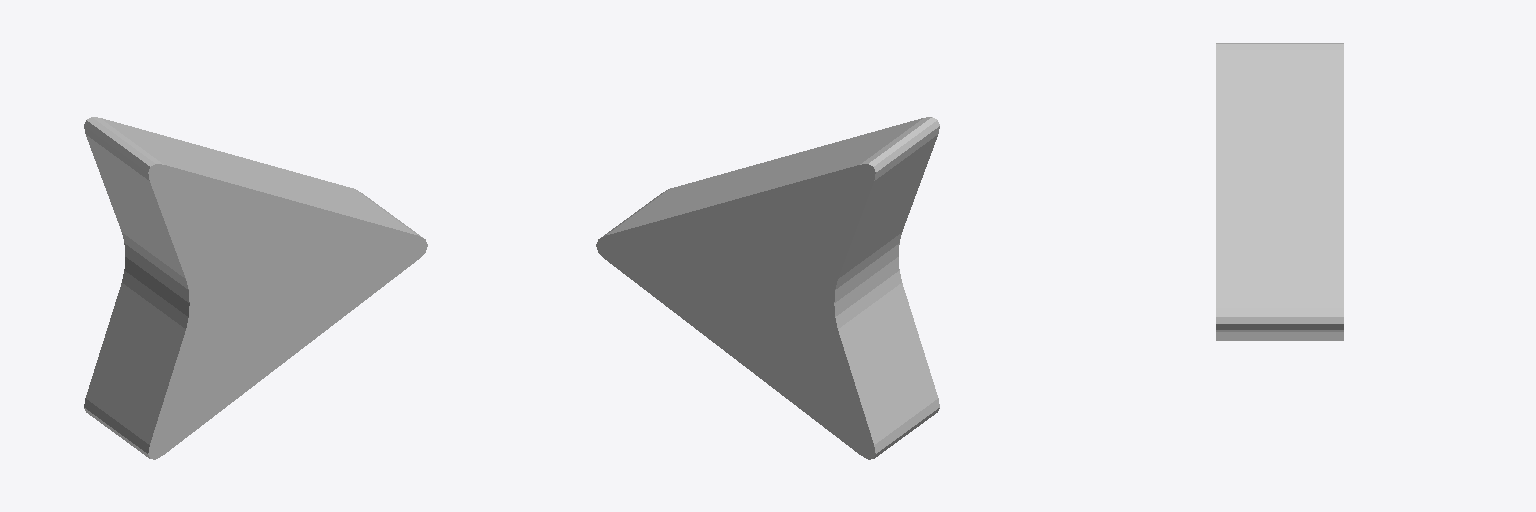
The model's file is Arrow_74.obj.
3 views of the same model, side by side, from view 1: azimuth 30°, elevation 25°; view 2: azimuth 150°, elevation 25°; view 3: azimuth 270°, elevation 25° (orthographic).
Visible parts, largest first — view 1: Arrow_74; view 2: Arrow_74; view 3: Arrow_74.
Part boxes in pixels (x1,y1,x2,y2): Arrow_74: (84,117,427,459); Arrow_74: (596,117,939,459); Arrow_74: (1216,43,1343,340).
Size of the model in its own units: 1.86 by 1.88 by 0.7423.